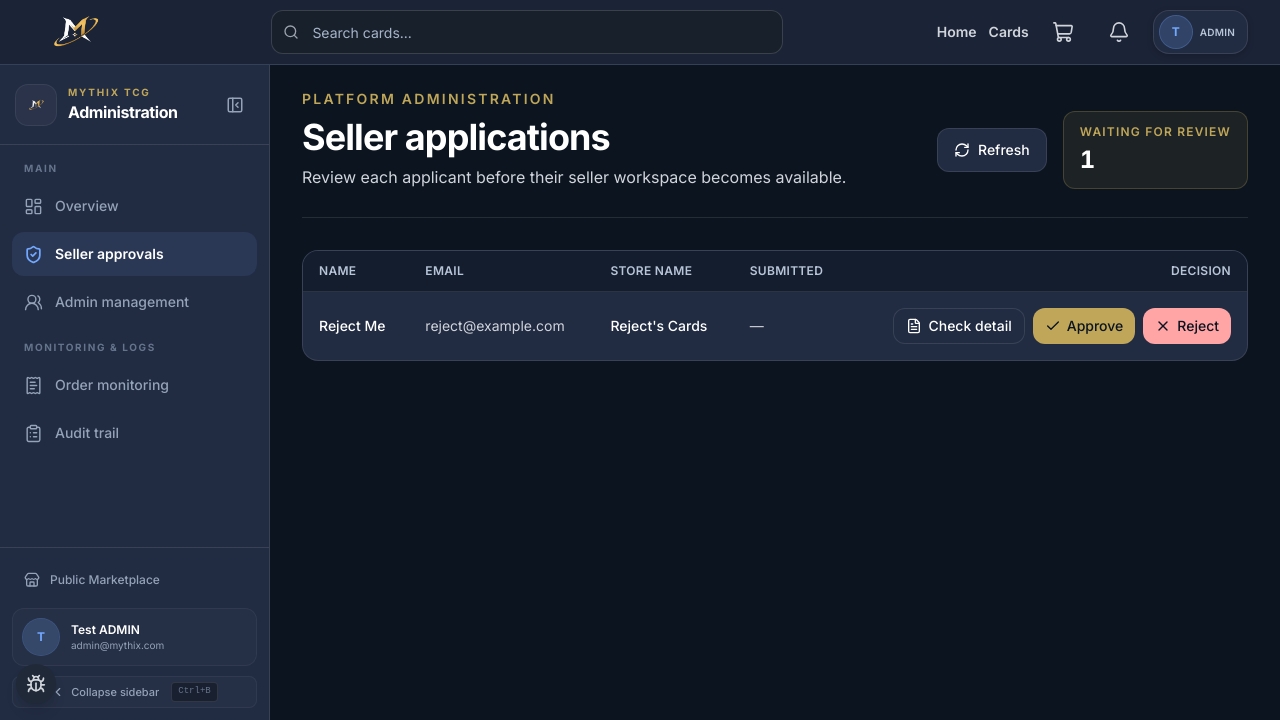
Test: US-11-3: View Seller Application Queue › should allow admin to reject a seller application
Click the button "Reject": (1187, 326) left=1143, top=308, right=1231, bottom=344
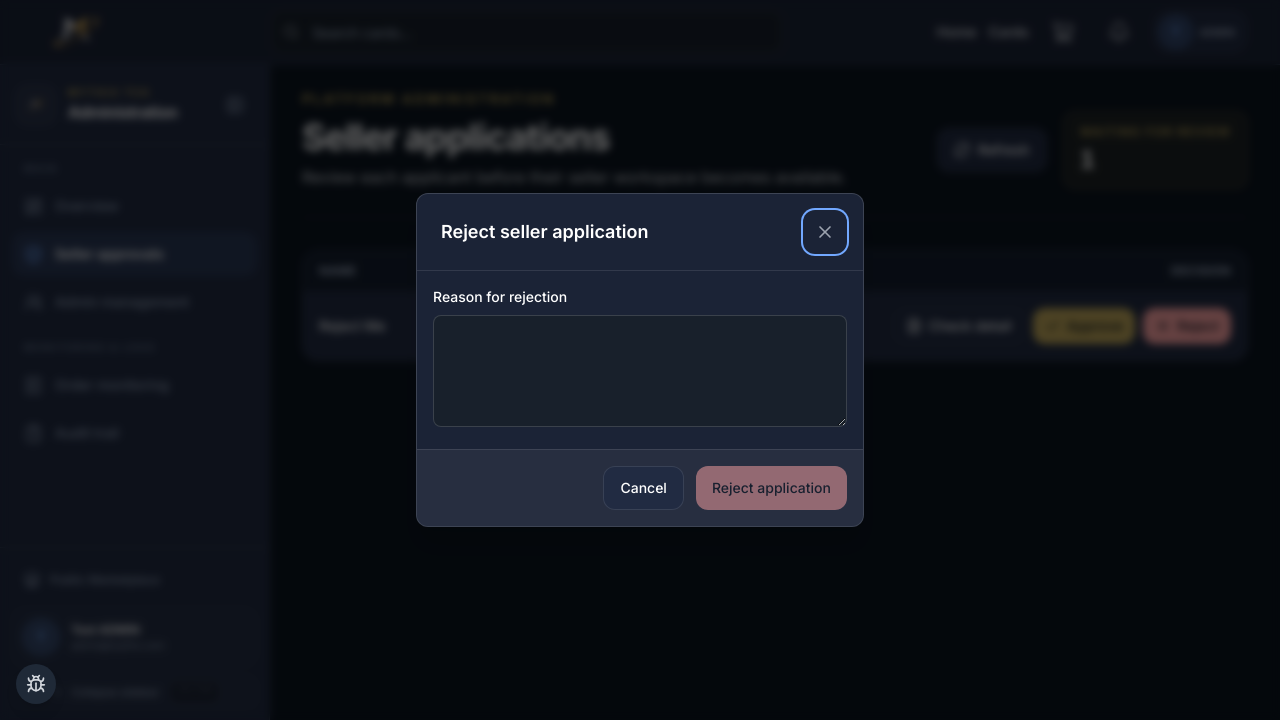
Check: the text box labelled "Reason for rejection" is shown
In the text box labelled "Reason for rejection": (640, 371) left=433, top=315, right=847, bottom=427, type "Shop name violates policy."
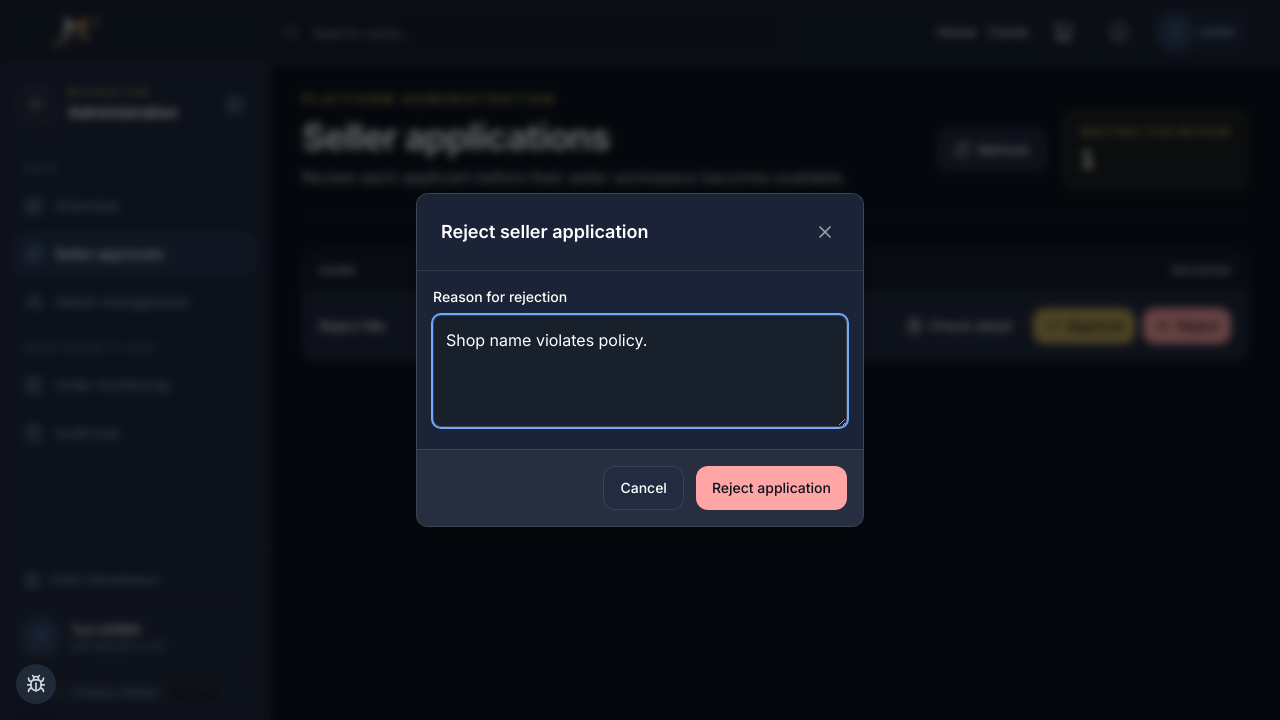
Note: Confirm rejection
Click the button "Reject application": (772, 488) left=696, top=466, right=847, bottom=510
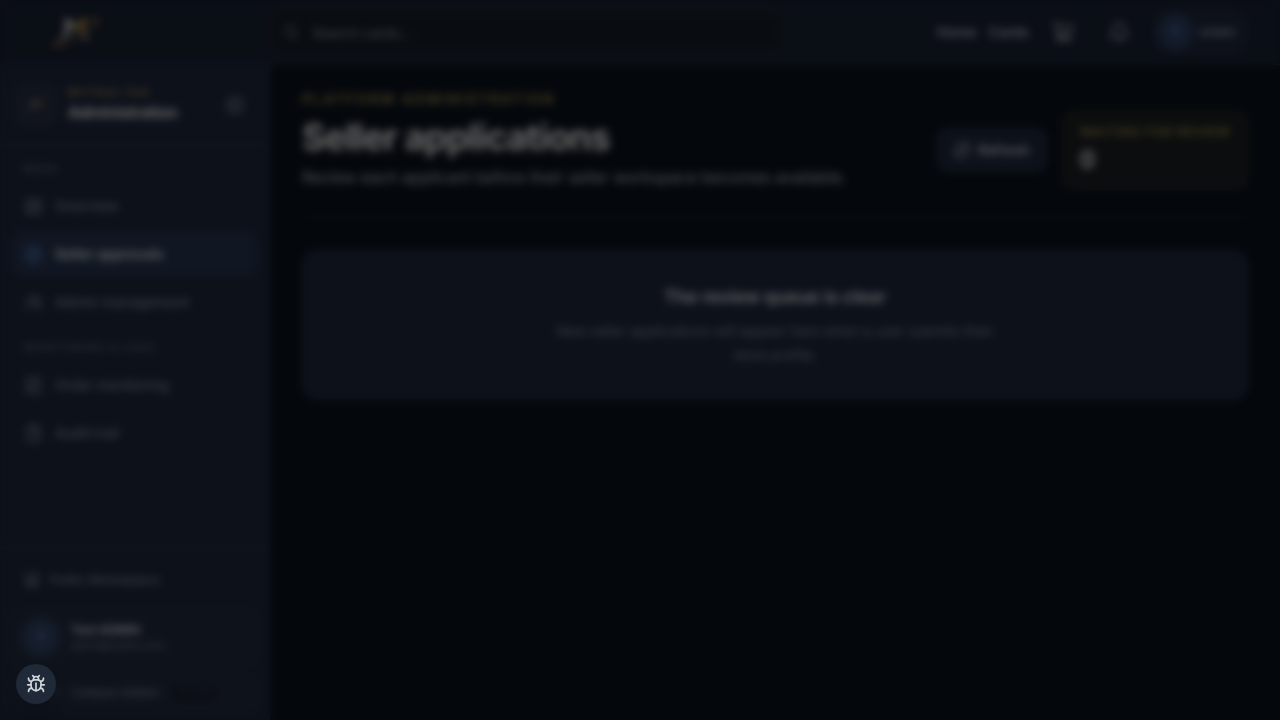
Check: the table is gone
